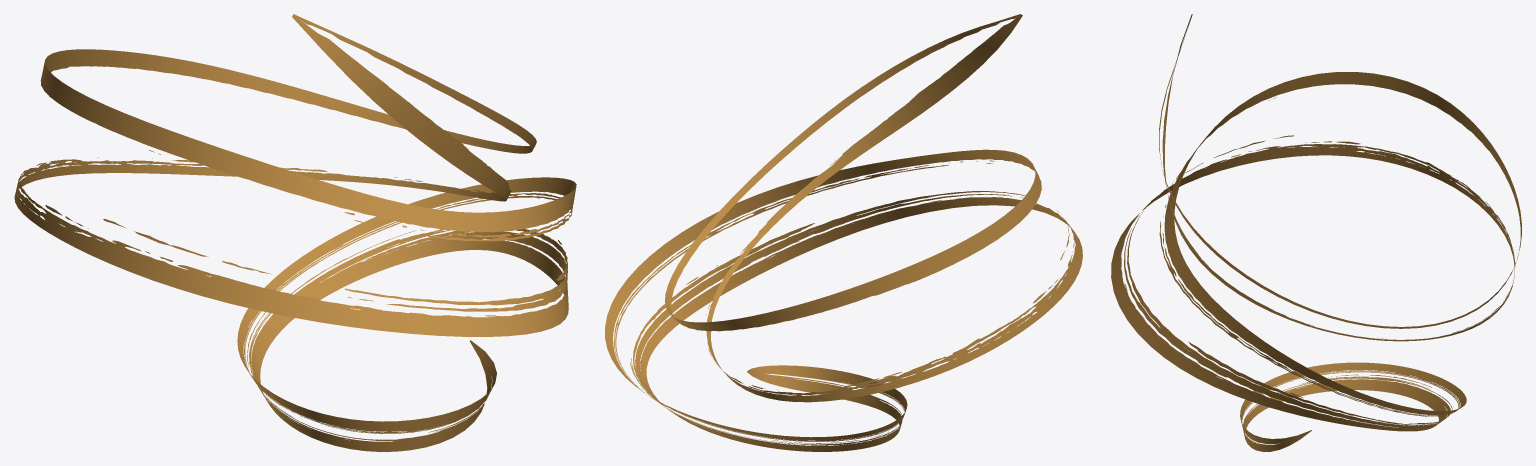
Rendered from sada.glb.
3 views of the same model, side by side, from view 1: azimuth 30°, elevation 25°; view 2: azimuth 150°, elevation 25°; view 3: azimuth 270°, elevation 25° (orthographic). The views are drawn at different scales.
Visible parts, largest first — view 1: road3; view 2: road3; view 3: road3.
Part boxes in pixels (bbox=[...]): road3: bbox=[14, 14, 576, 451]; road3: bbox=[605, 14, 1082, 451]; road3: bbox=[1111, 14, 1521, 451].
Bounding box in the file's own units: 32.31 × 30.03 × 30.93.
Materials: 1 (1 with a texture image).
